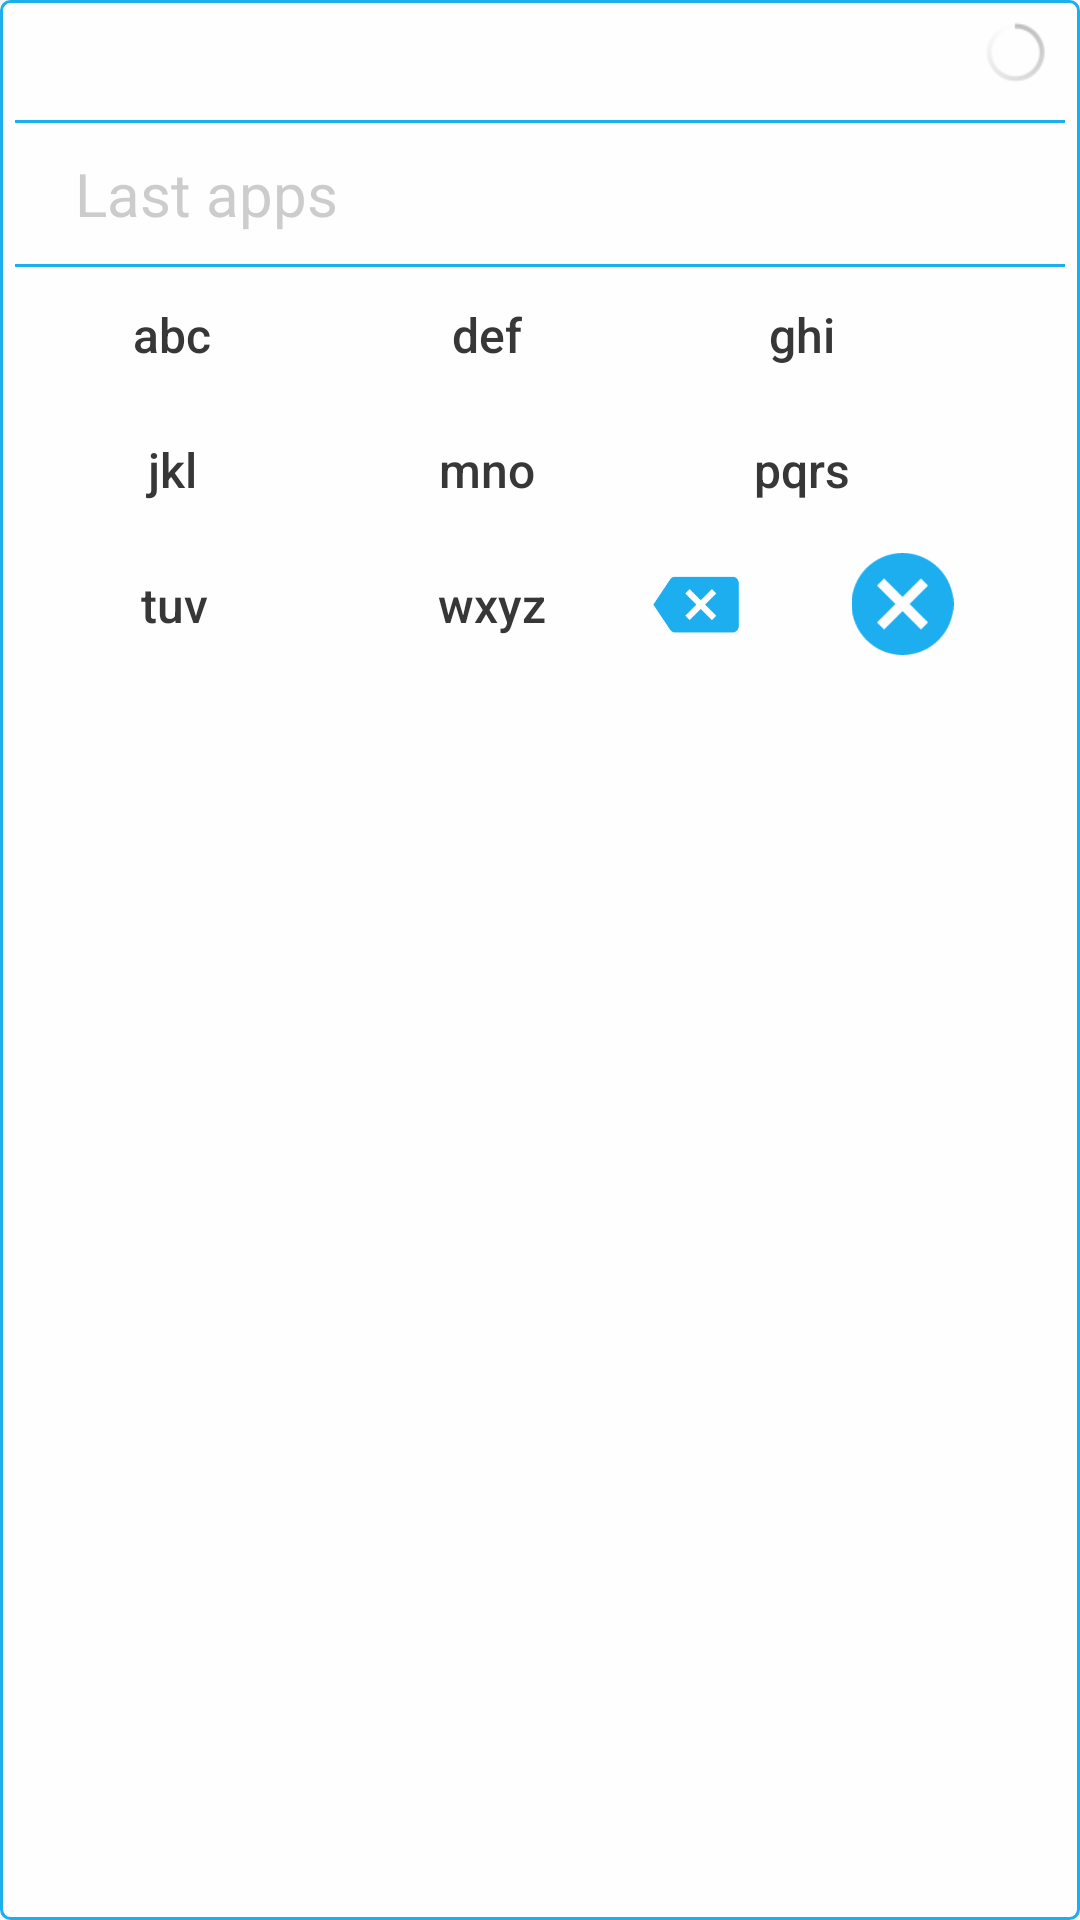

Where to tap for icons on this 1080px×1920px app screen, as [x,y]:
backspace arrow: [696,604]
cancel: [903,604]
